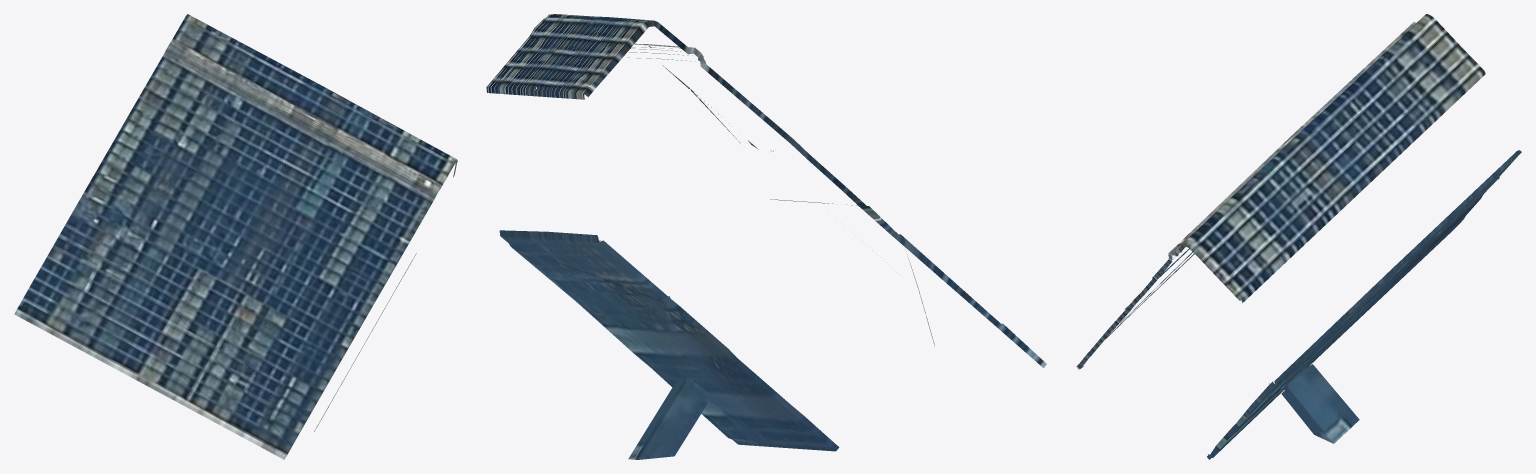
File: masp_tile_16.glb
3 renders of one model, left to right at view 1: azimuth 30°, elevation 25°; view 2: azimuth 150°, elevation 25°; view 3: azimuth 270°, elevation 25°, orthographic. The views are drawn at different scales.
Size of the model in its own units: 55.73 by 46.88 by 44.54.
Materials: 2 (2 with a texture image).
